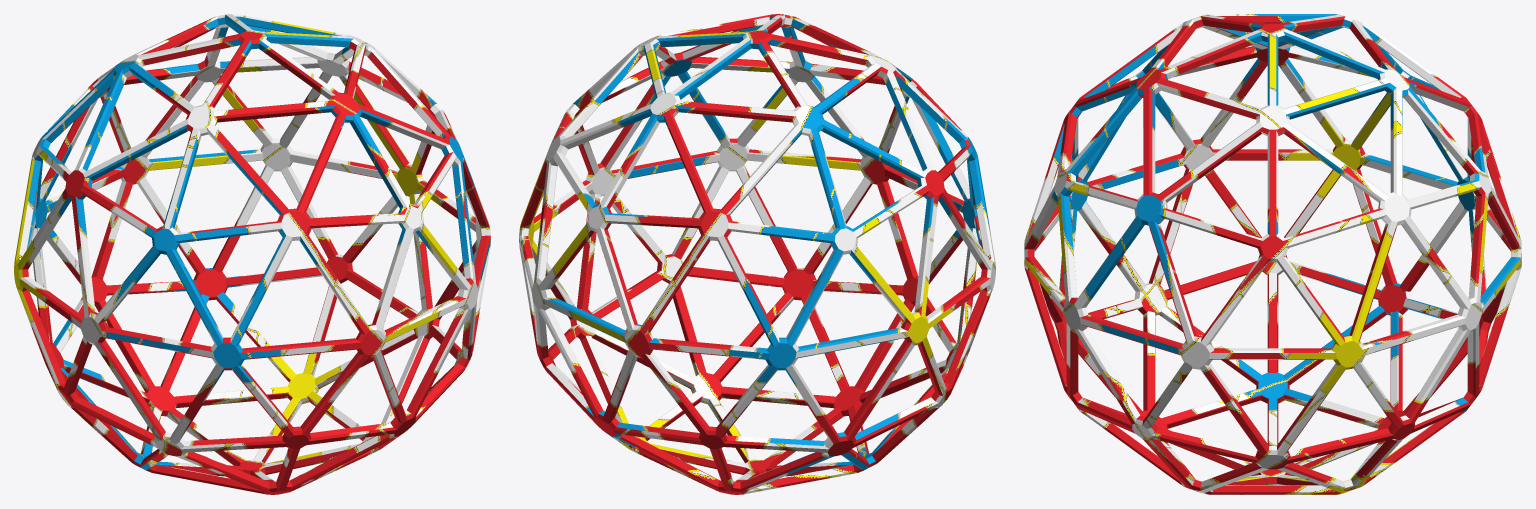
File: cage.gltf
3 renders of one model, left to right at view 1: azimuth 30°, elevation 25°; view 2: azimuth 150°, elevation 25°; view 3: azimuth 270°, elevation 25°, orthographic. The views are drawn at different scales.
Visible parts, largest first — view 1: Icosphere; view 2: Icosphere; view 3: Icosphere.
Boxes of the visible parts, x1,y1,x2,y2 form: Icosphere: [14, 14, 490, 494]; Icosphere: [519, 14, 995, 494]; Icosphere: [1024, 14, 1521, 494].
Bounding box in the file's own units: 1.94 × 2.01 × 2.
